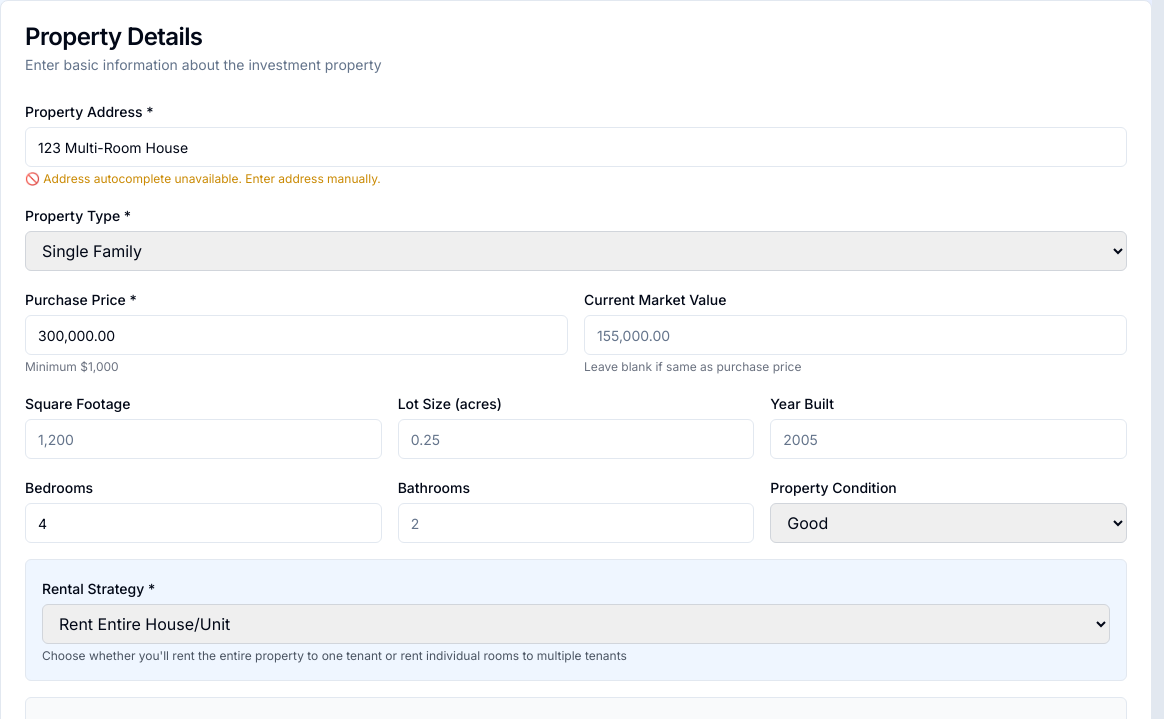
Scenario: Multi-Room Rental Strategy Feature › should enable multi-room configuration when individual-rooms is selected
This screenshot has width=1164, height=719.
Switch to individual-rooms strategy
Select "Rent Individual Rooms" in the dropdown labelled "Rental Strategy *" at (576, 624), box [42,604,1110,644]
(page scrolled)
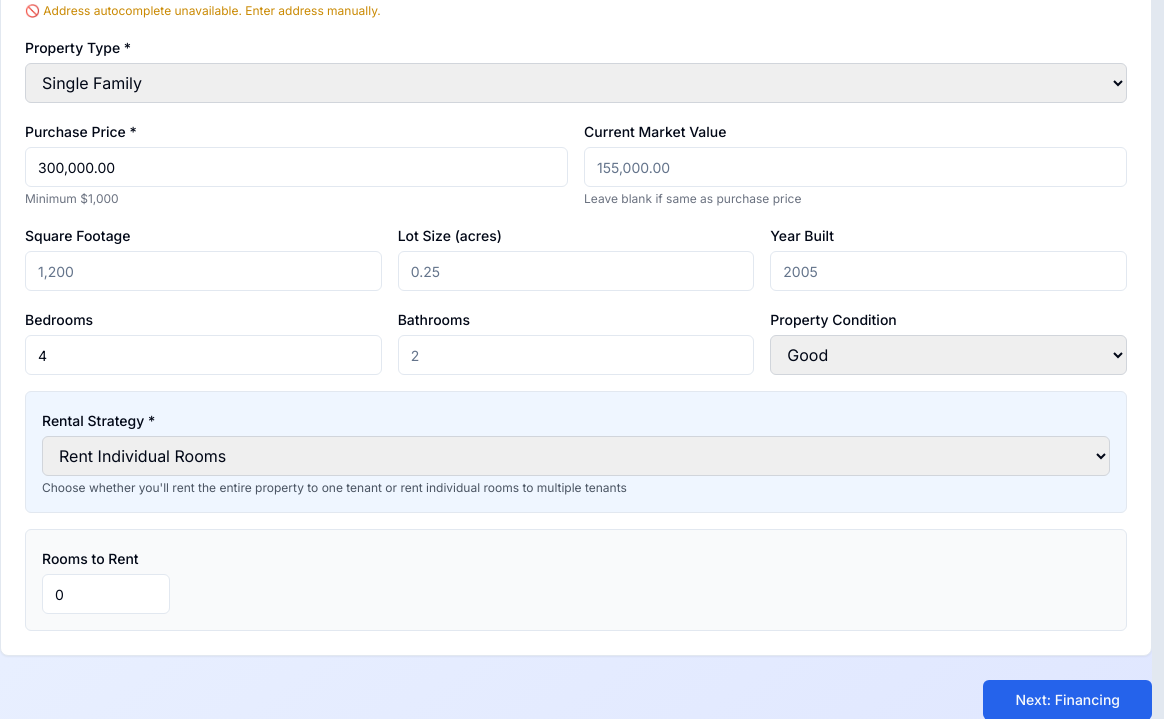
Expected: the label labelled "Monthly Gross Rent" is not shown
Expected: the number field labelled "Rooms to Rent" is shown, [42,574,170,614]
